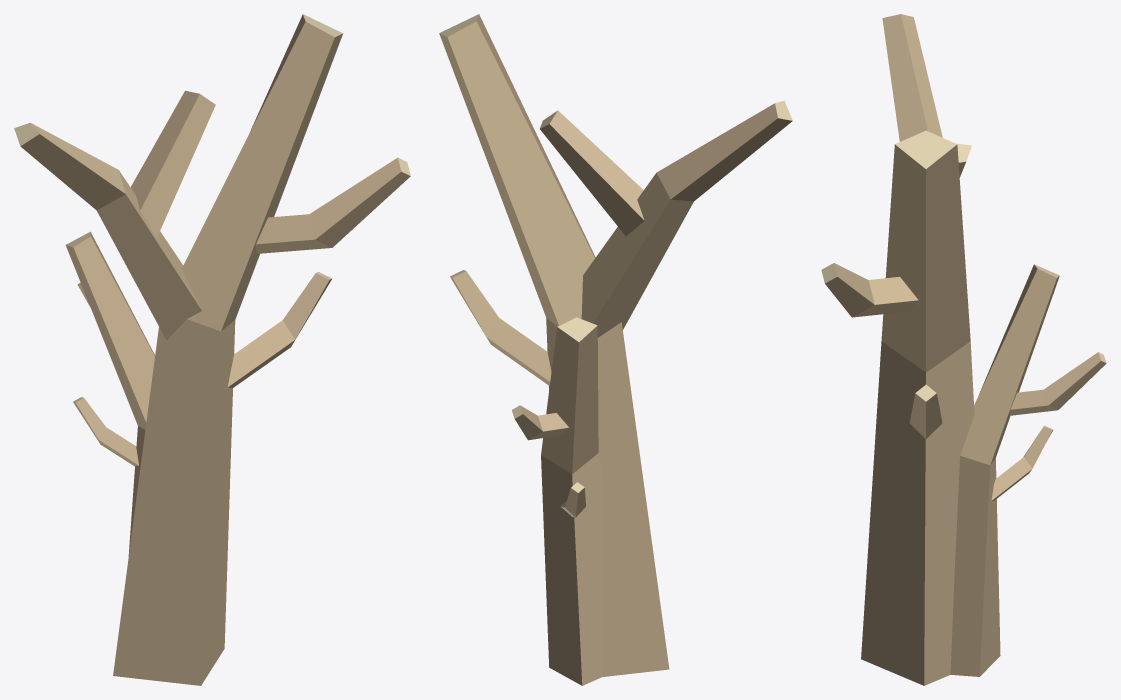
File: TB_D_Env_DeadTreeA_E.FBX
3 views of the same model, side by side, from view 1: azimuth 30°, elevation 25°; view 2: azimuth 150°, elevation 25°; view 3: azimuth 270°, elevation 25° (orthographic). The views are drawn at different scales.
Parts seen in each view (by area): view 1: TB_D_Env_DeadTreeA_E; view 2: TB_D_Env_DeadTreeA_E; view 3: TB_D_Env_DeadTreeA_E.
Boxes of the visible parts, x1=… form: TB_D_Env_DeadTreeA_E: x1=14, y1=14, x2=410, y2=685; TB_D_Env_DeadTreeA_E: x1=439, y1=14, x2=792, y2=685; TB_D_Env_DeadTreeA_E: x1=821, y1=14, x2=1106, y2=685.
Bounding box in the file's own units: 3.43 × 5.55 × 2.41.
